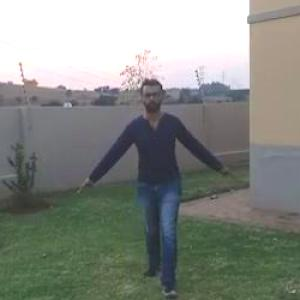land: (44, 55, 230, 299)
